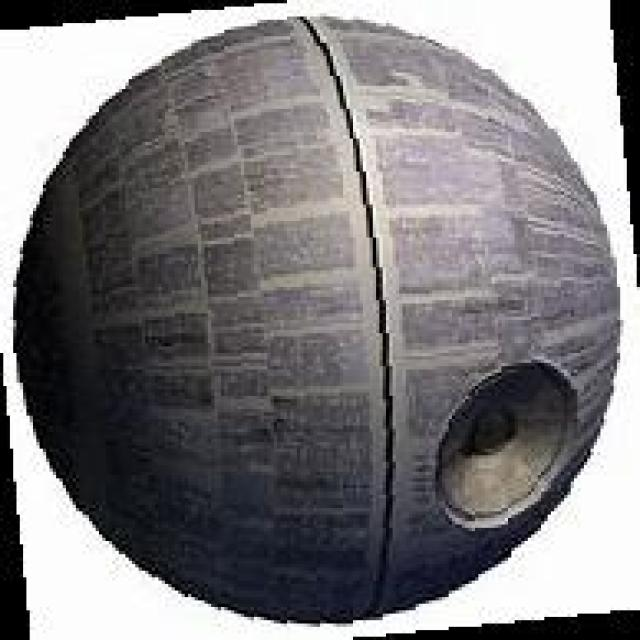Death Star: (35, 14, 604, 625)
